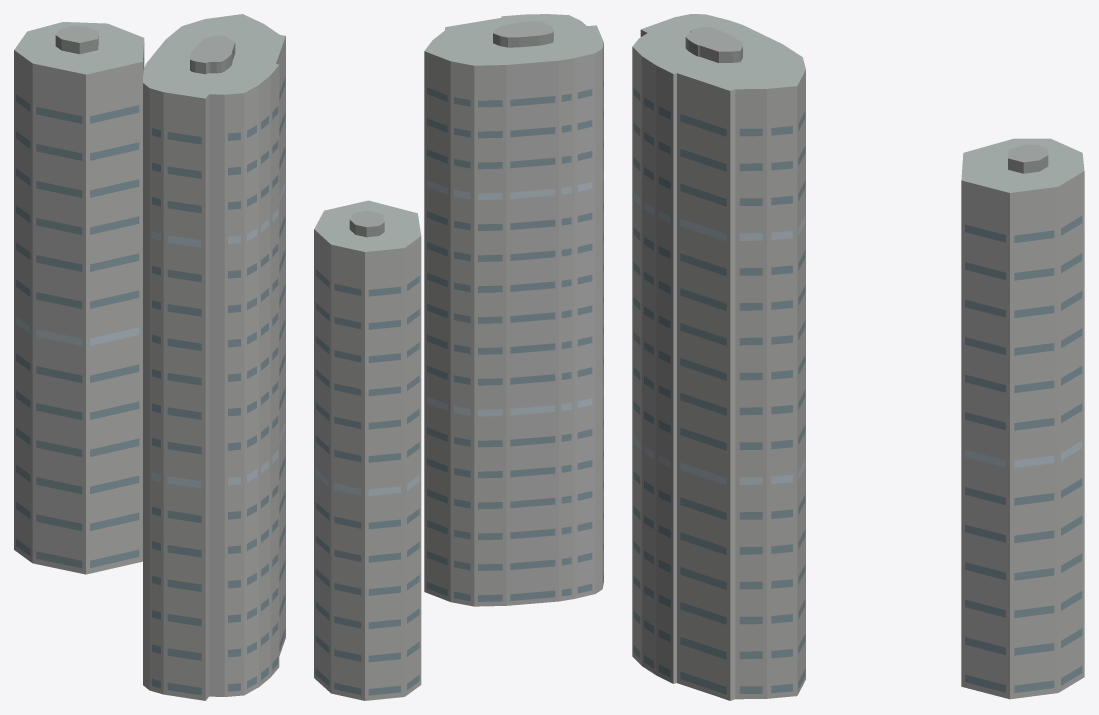
File: apt-a14070901.glb
3 views of the same model, side by side, from view 1: azimuth 30°, elevation 25°; view 2: azimuth 150°, elevation 25°; view 3: azimuth 270°, elevation 25° (orthographic). The views are drawn at different scales.
Visible parts, largest first — view 1: apt-a14070901; view 2: apt-a14070901; view 3: apt-a14070901.
Boxes of the visible parts, bbox=[...] form: apt-a14070901: bbox=[14, 14, 285, 700]; apt-a14070901: bbox=[314, 14, 603, 700]; apt-a14070901: bbox=[632, 14, 1084, 700].
Size of the model in its own units: 34.78 by 131 by 86.31.
